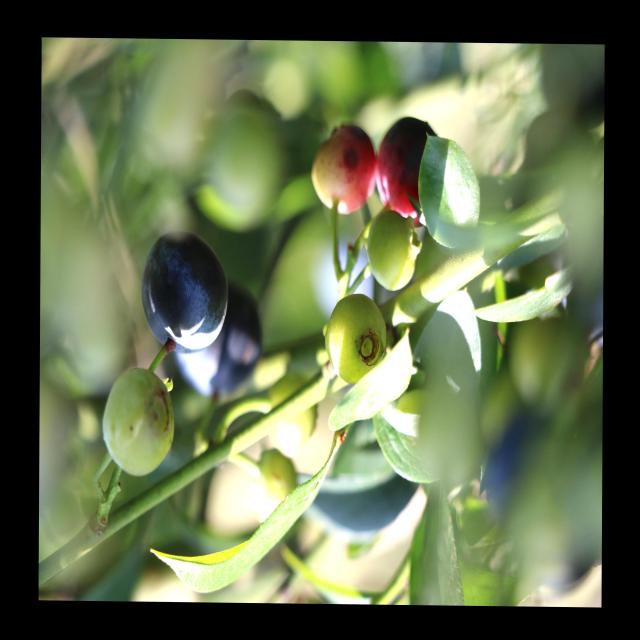blueberry: (177, 283, 269, 402), (141, 230, 225, 354)
blueberry-halfripe: (375, 113, 439, 227), (309, 120, 376, 218)
blueberry-unripe: (102, 362, 177, 478), (323, 292, 388, 387), (365, 214, 421, 294), (266, 373, 319, 457), (248, 447, 299, 528)
